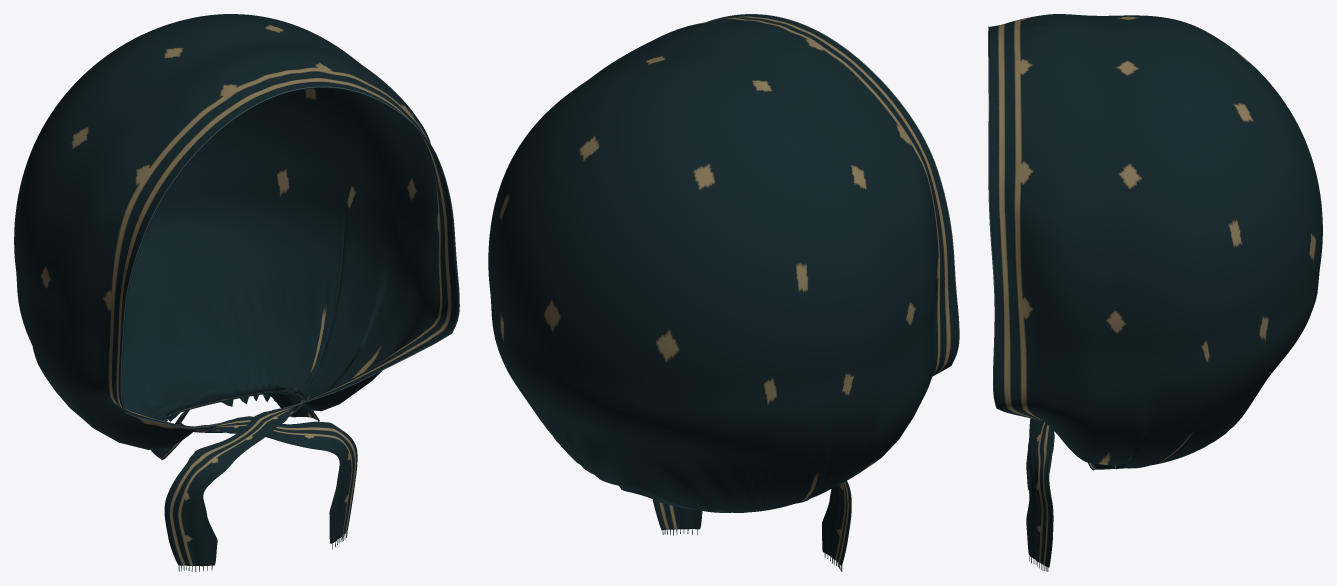
Rendered from Masculine-Masculine-flow-tank-pashmina250-headgear-7d17809e.glb.
3 views of the same model, side by side, from view 1: azimuth 30°, elevation 25°; view 2: azimuth 150°, elevation 25°; view 3: azimuth 270°, elevation 25° (orthographic). The views are drawn at different scales.
Parts seen in each view (by area): view 1: 226 headgear / Headwear / continuous woven pashmina239, 226 headgear / Headwear / face edge239; view 2: 226 headgear / Headwear / continuous woven pashmina239, 226 headgear / Headwear / face edge239; view 3: 226 headgear / Headwear / continuous woven pashmina239, 226 headgear / Headwear / face edge239.
Part boxes in pixels (left/top/right/bottom): 226 headgear / Headwear / continuous woven pashmina239: left=14, top=14, right=458, bottom=566; 226 headgear / Headwear / face edge239: left=120, top=86, right=459, bottom=428; 226 headgear / Headwear / continuous woven pashmina239: left=488, top=14, right=958, bottom=565; 226 headgear / Headwear / face edge239: left=707, top=14, right=959, bottom=375; 226 headgear / Headwear / continuous woven pashmina239: left=989, top=14, right=1322, bottom=567; 226 headgear / Headwear / face edge239: left=988, top=26, right=1042, bottom=420.
Size of the model in its own units: 1.1 by 1.42 by 0.8633.
3 materials, 1 textured.
